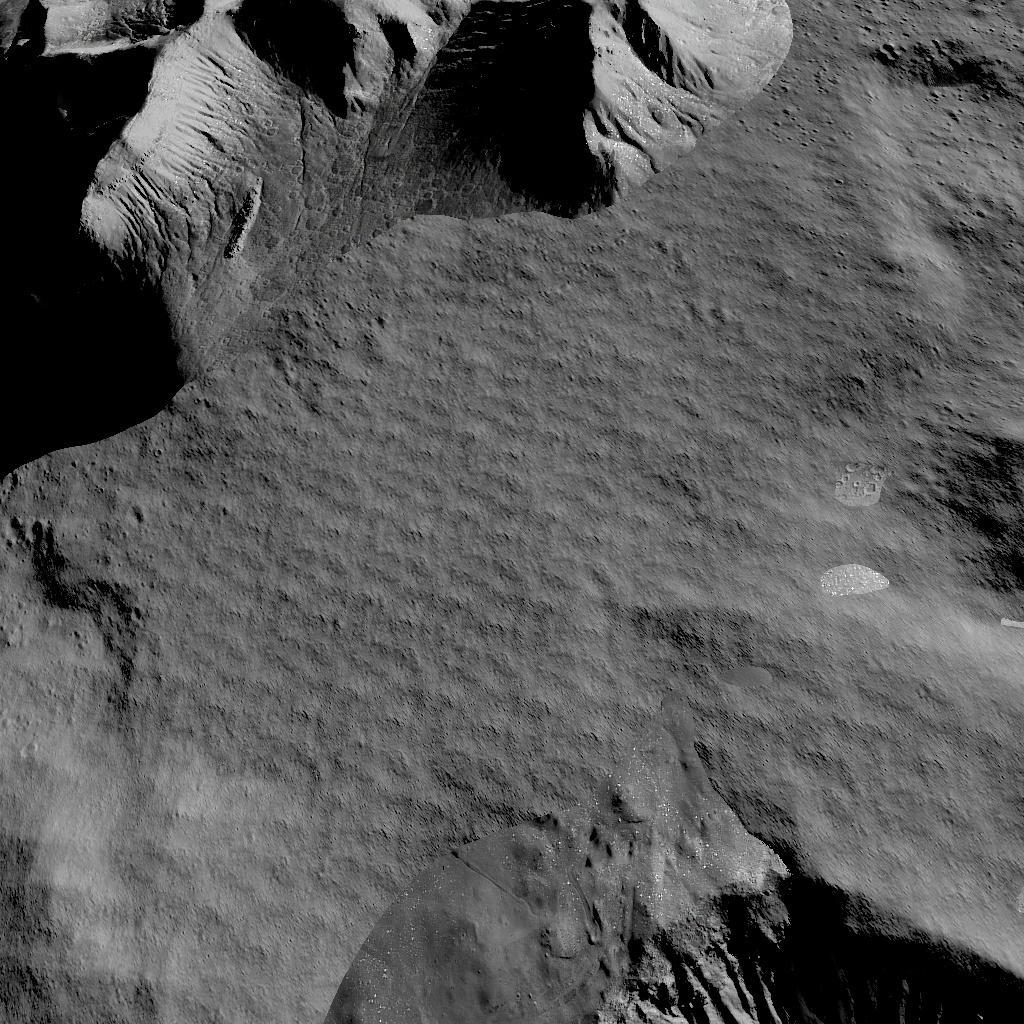Boulders: (19, 0, 801, 458)
Crater: (419, 828, 1024, 1024), (911, 406, 1024, 602), (867, 26, 913, 76)
Plan surface: (7, 496, 390, 1024), (422, 486, 874, 782), (829, 112, 1024, 358)
